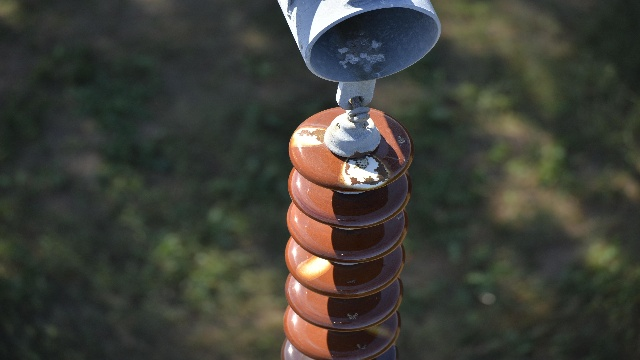insulator_unspecified: (279, 107, 413, 359)
pollution_flashover_local: (337, 151, 391, 189), (285, 124, 331, 153), (298, 255, 332, 284), (372, 324, 397, 345)
